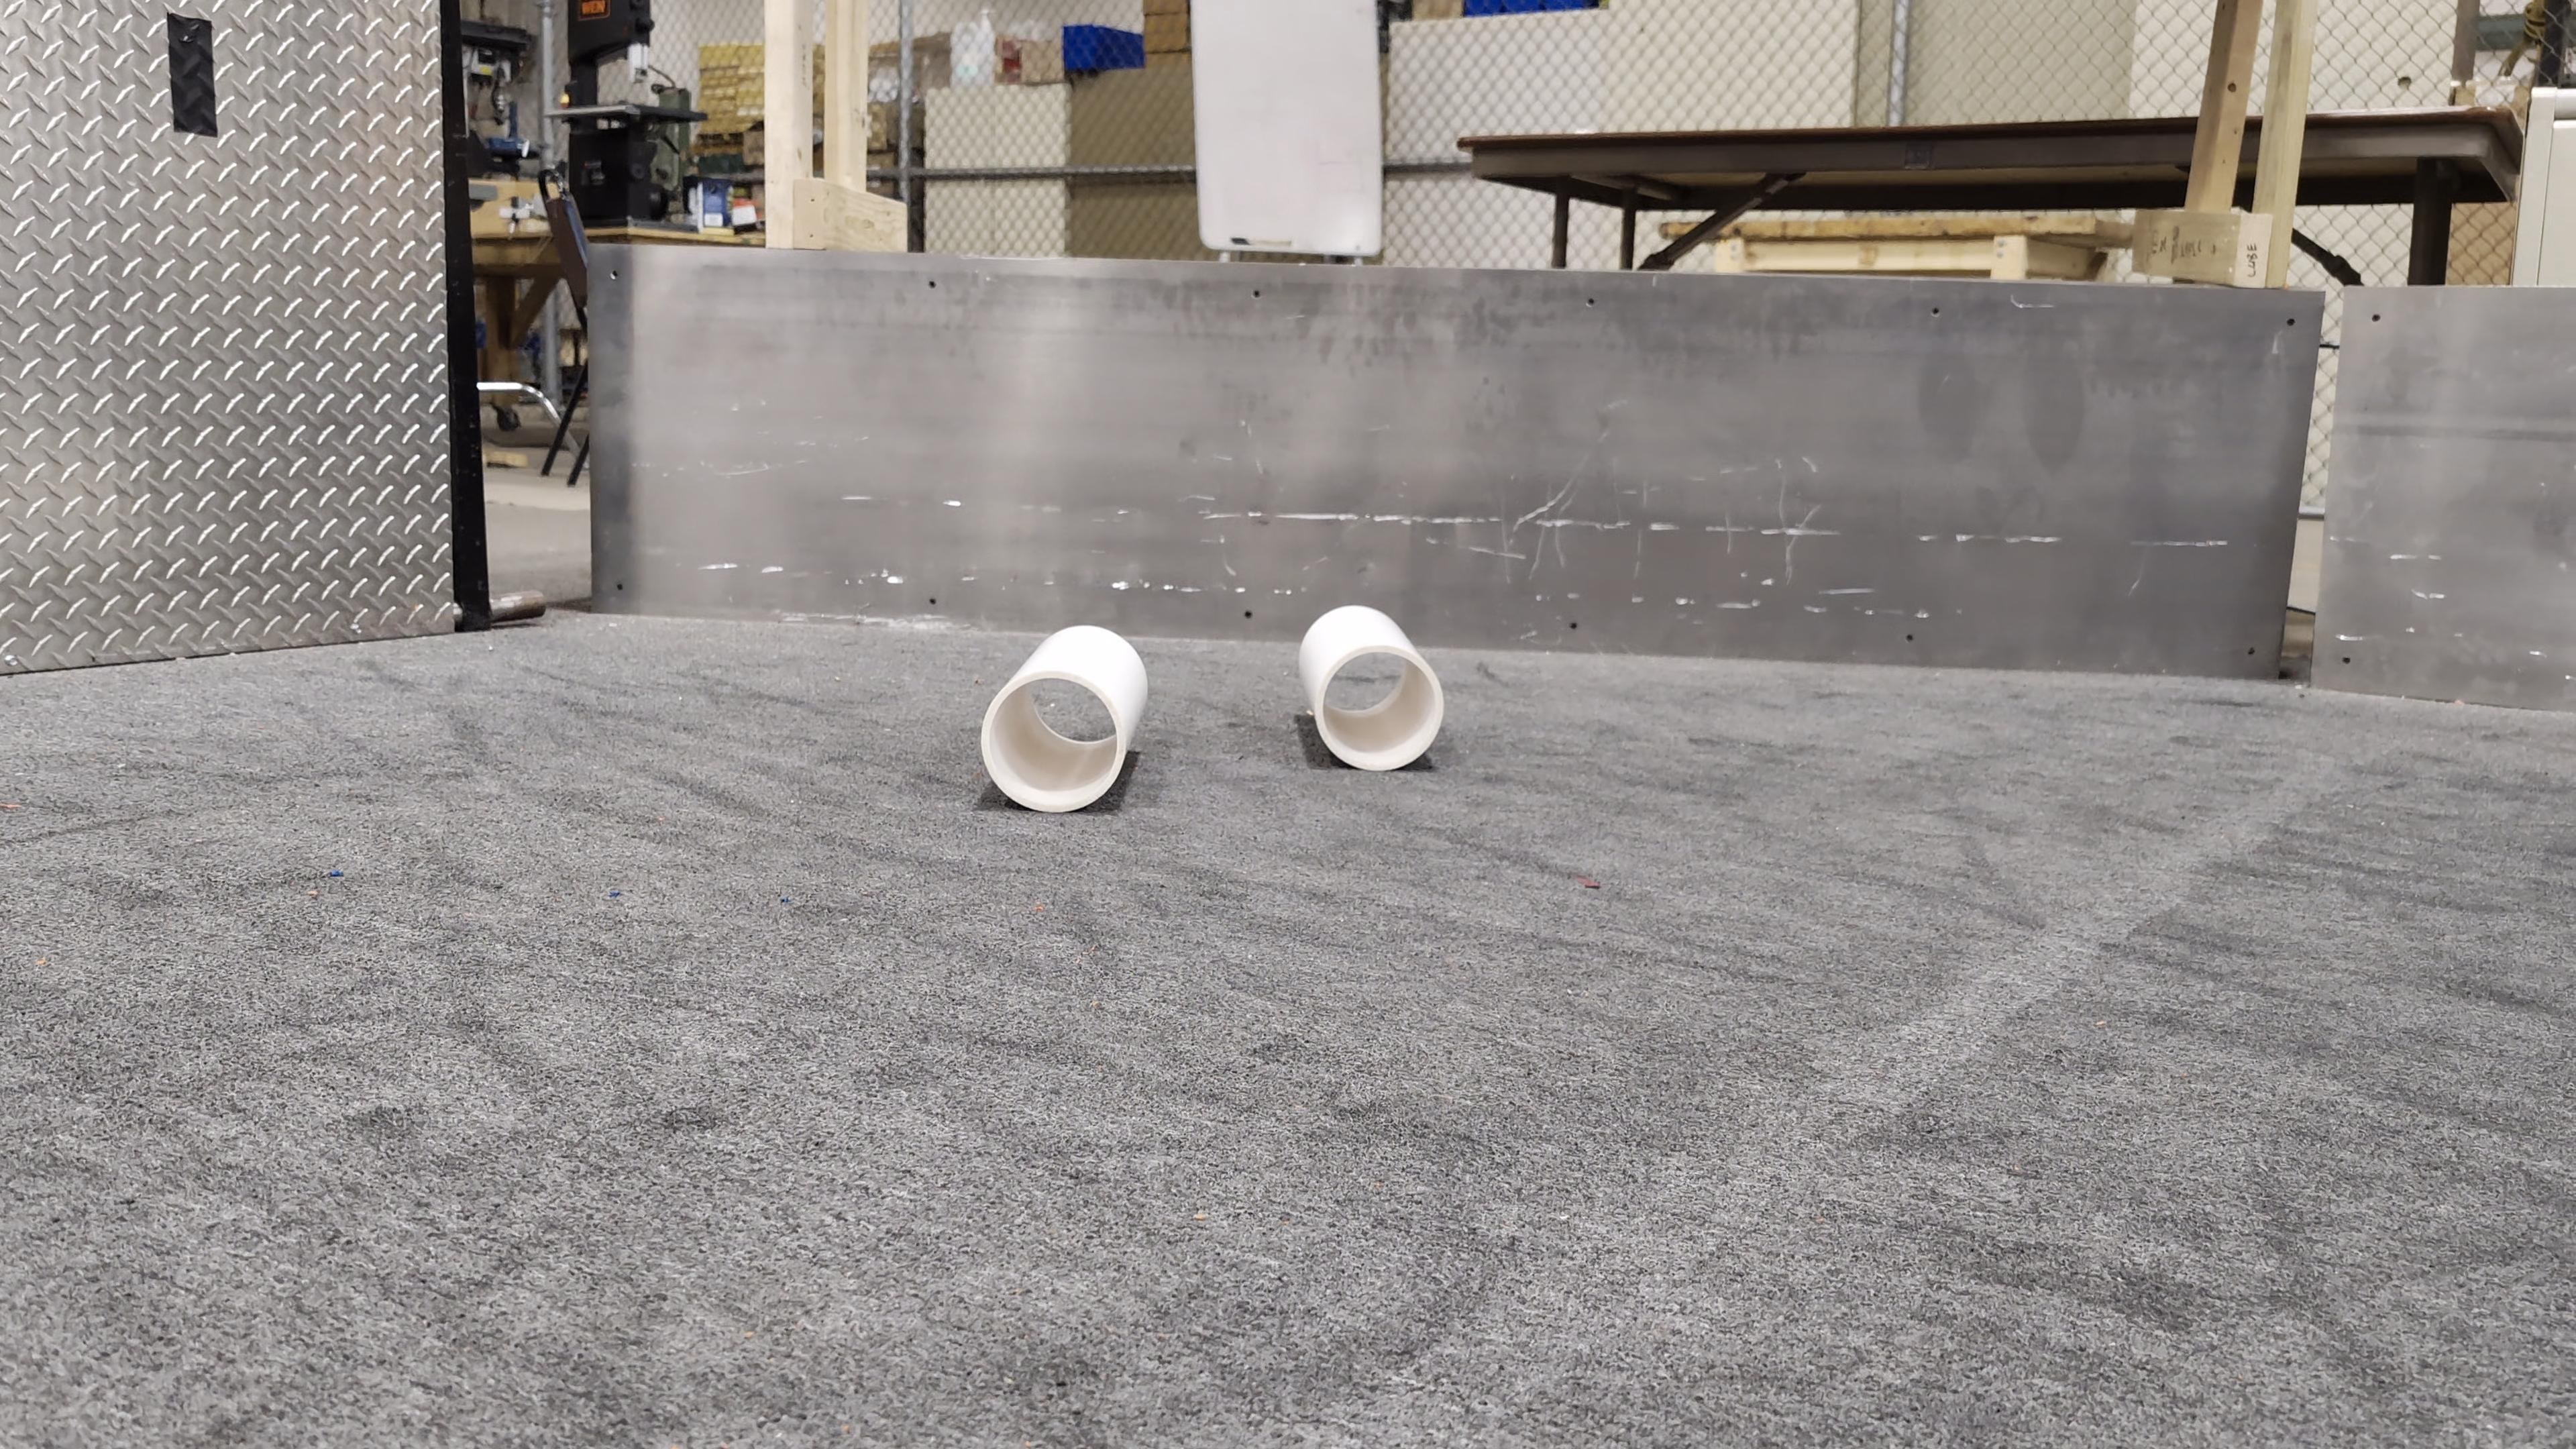coral: (982, 625, 1150, 814), (1299, 605, 1444, 770)
